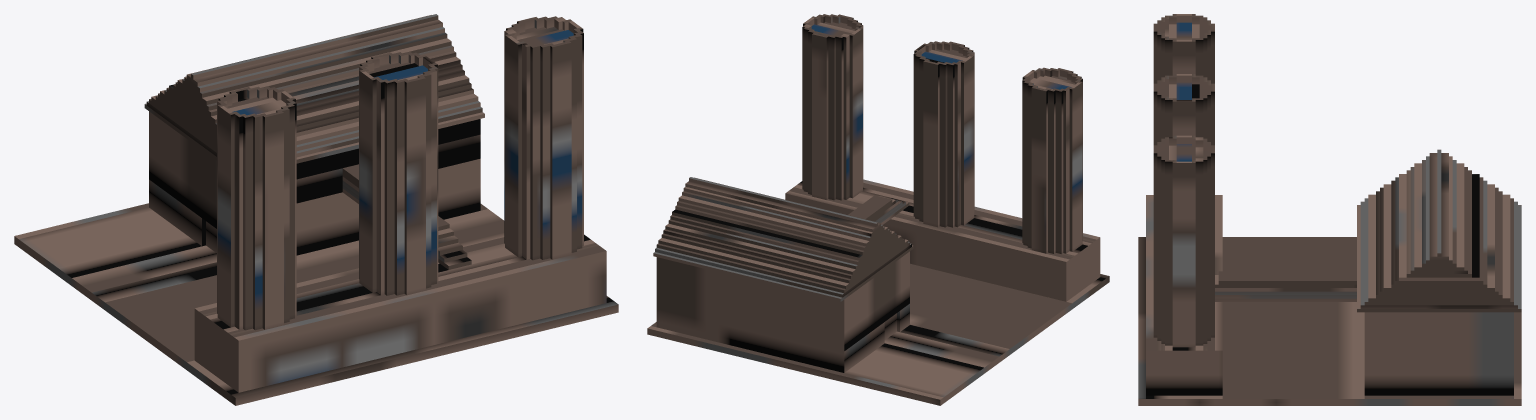
The model's file is Trabajo2.fbx.
3 views of the same model, side by side, from view 1: azimuth 30°, elevation 25°; view 2: azimuth 150°, elevation 25°; view 3: azimuth 270°, elevation 25° (orthographic). The views are drawn at different scales.
Parts seen in each view (by area): view 1: Trabajo1; view 2: Trabajo1; view 3: Trabajo1.
Boxes of the visible parts, left/top/right/bottom form: Trabajo1: left=14, top=14, right=618, bottom=405; Trabajo1: left=647, top=14, right=1109, bottom=405; Trabajo1: left=1138, top=14, right=1521, bottom=405.
Bounding box in the file's own units: 100 × 68 × 100.
